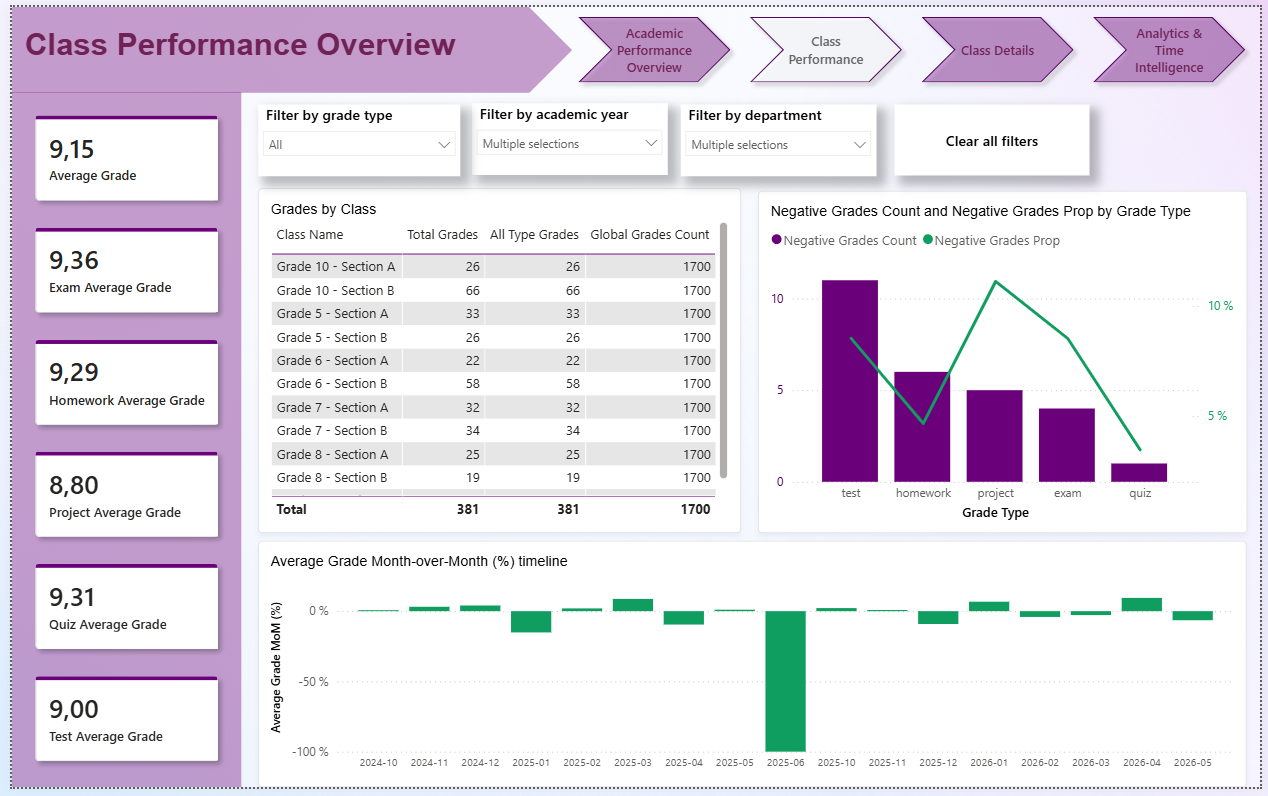

This screenshot's page, from the dashboard's own definition file:
{"tool":"powerbi","page":{"name":"Class Performance","canvas":[1280,800],"ordinal":1},"visuals":[{"type":"cardVisual","fields":{"Data":["_Measures.Average Grade","_Measures.Exam Average Grade","_Measures.Homework Average Grade","_Measures.Project Average Grade","_Measures.Quiz Average Grade","_Measures.Test Average Grade"]},"box":[0,86.7,235.1,713.3],"z":0},{"type":"tableEx","title":"Grades by Class","fields":{"Values":["classes.class_name","_Measures.Total Grades","_Measures.All Type Grades","_Measures.Global Grades Count"]},"box":[252.5,186.2,495,353.8],"z":1000},{"type":"lineClusteredColumnComboChart","title":"Negative Grades Count and Negative Grades Prop by Grade Type","fields":{"Y":["_Measures.Neg Grades Count"],"Y2":["_Measures.Neg Grades Prop"],"Category":["grades.grade_type"]},"box":[765,188.8,501.2,351.2],"z":2000},{"type":"clusteredColumnChart","title":"Average Grade Month-over-Month (%) timeline","fields":{"Category":["Calendar.year-month"],"Y":["_Measures.MoM_AG%"]},"box":[252.7,547.3,1013.6,252.7],"z":3000},{"type":"shape","box":[0,0,574.7,88.3],"z":4000},{"type":"textbox","box":[10.9,0,500,87],"z":5000},{"type":"slicer","fields":{"Values":["periods.academic_year"]},"box":[471.7,99.2,200.5,73.4],"z":7000},{"type":"slicer","fields":{"Values":["grades.grade_type"]},"box":[252.1,99.4,207.3,73.2],"z":8000},{"type":"slicer","fields":{"Values":["subjects.department_hint"]},"box":[685.7,100.4,200.5,73.4],"z":9000},{"type":"actionButton","box":[905,100,200,72.5],"z":9001},{"type":"pageNavigator","box":[572,1.4,702.4,85.6],"z":9002}]}

Visuals, with their boxes in screenshot pixels (x1, y1, x2, y2), scaled from the page's 1280x800 canvas onto the 1268x796 screenshot:
cardVisual - _Measures.Average Grade x _Measures.Exam Average Grade: 0:86:233:795
"Grades by Class" tableEx: 250:185:740:537
"Negative Grades Count and Negative Grades Prop by Grade Type" lineClusteredColumnComboChart: 758:188:1254:537
"Average Grade Month-over-Month (%) timeline" clusteredColumnChart: 250:545:1254:795
shape: 0:0:569:88
textbox: 11:0:506:87
slicer - periods.academic_year: 467:99:666:172
slicer - grades.grade_type: 250:99:455:172
slicer - subjects.department_hint: 679:100:878:173
actionButton: 897:100:1095:172
pageNavigator: 567:1:1262:87
